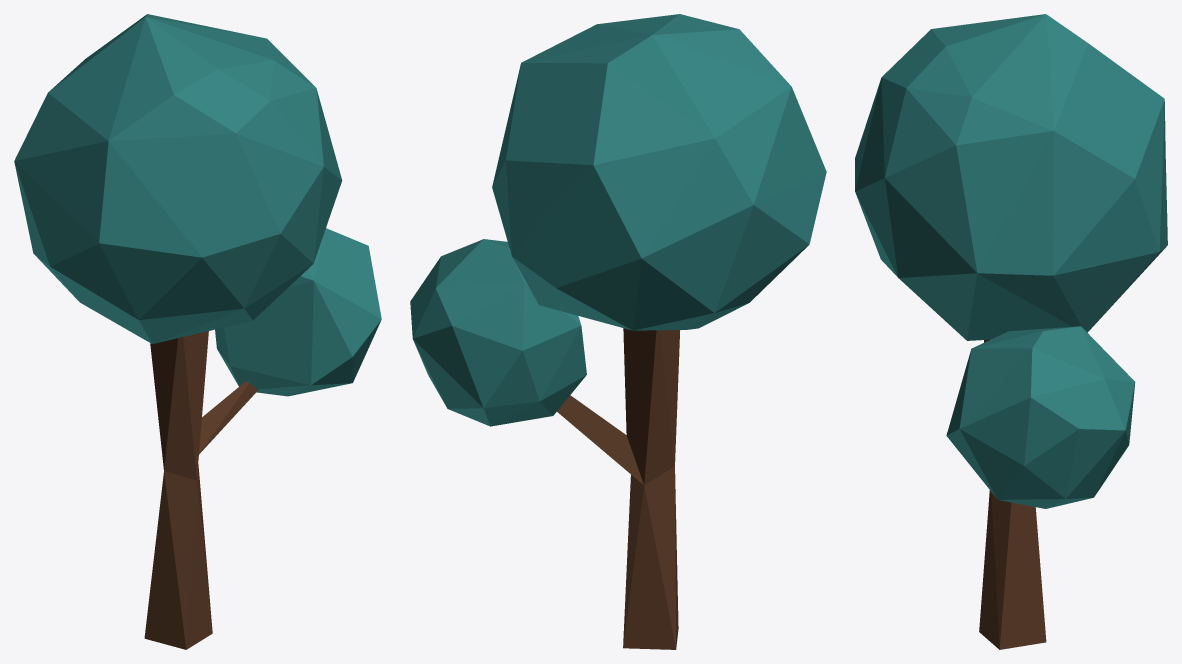
File: Tree_54_Blue.fbx
The picture shows the model from 3 angles, left to right: view 1: azimuth 30°, elevation 25°; view 2: azimuth 150°, elevation 25°; view 3: azimuth 270°, elevation 25°; orthographic projection.
Visible parts, largest first — view 1: Tree_54_Blue_Part_1, Tree_54_Blue_Part_2, Tree_54_Blue_Part_3; view 2: Tree_54_Blue_Part_1, Tree_54_Blue_Part_2, Tree_54_Blue_Part_3; view 3: Tree_54_Blue_Part_1, Tree_54_Blue_Part_2, Tree_54_Blue_Part_3.
Part boxes in pixels (x1,y1,x2,y2): Tree_54_Blue_Part_1: (14,14,342,343); Tree_54_Blue_Part_2: (199,228,381,454); Tree_54_Blue_Part_3: (144,331,212,649); Tree_54_Blue_Part_1: (492,14,826,330); Tree_54_Blue_Part_2: (410,239,643,484); Tree_54_Blue_Part_3: (623,328,680,649); Tree_54_Blue_Part_1: (855,14,1167,340); Tree_54_Blue_Part_2: (946,326,1135,508); Tree_54_Blue_Part_3: (979,339,1046,649).
Size of the model in its own units: 358 by 602 by 278.
